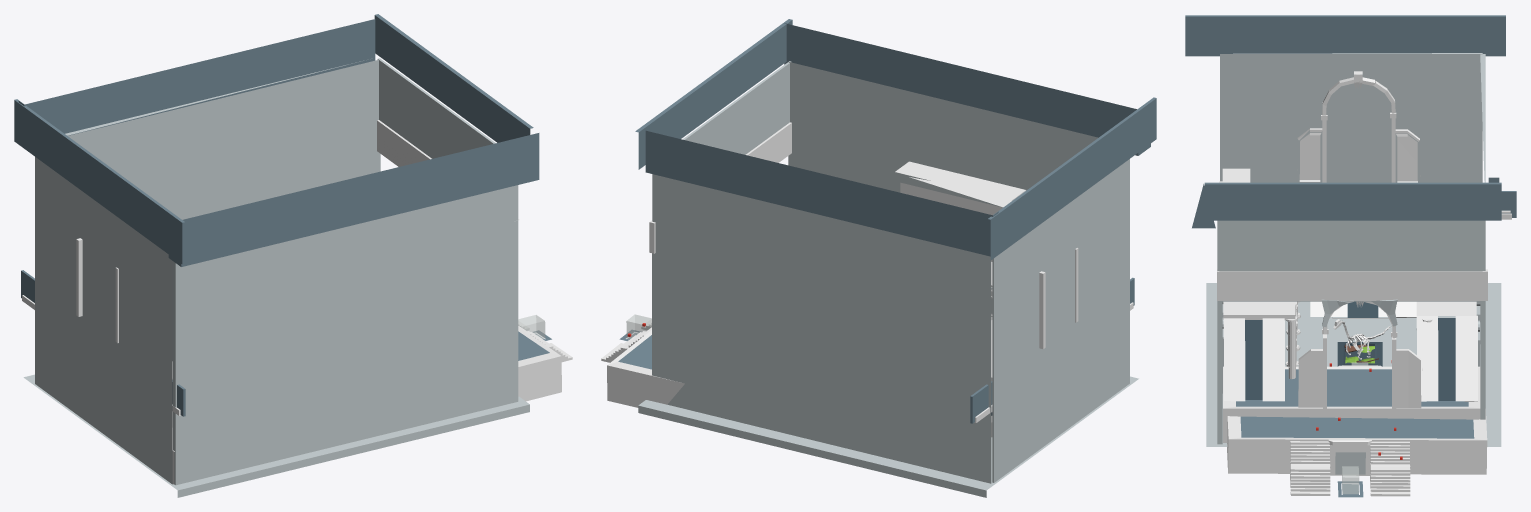
The picture shows the model from 3 angles, left to right: view 1: azimuth 30°, elevation 25°; view 2: azimuth 150°, elevation 25°; view 3: azimuth 270°, elevation 25°; orthographic projection. The views are drawn at different scales.
Visible parts, largest first — view 1: group1166085555.001; view 2: group1166085555.001; view 3: group1166085555.001.
Part boxes in pixels (box(x1,y1,x2,y2)): group1166085555.001: box(14, 14, 572, 497); group1166085555.001: box(601, 19, 1156, 497); group1166085555.001: box(1185, 15, 1516, 497).
Size of what is drawn, in the model's own units: 1.4 by 0.8583 by 0.9344.
